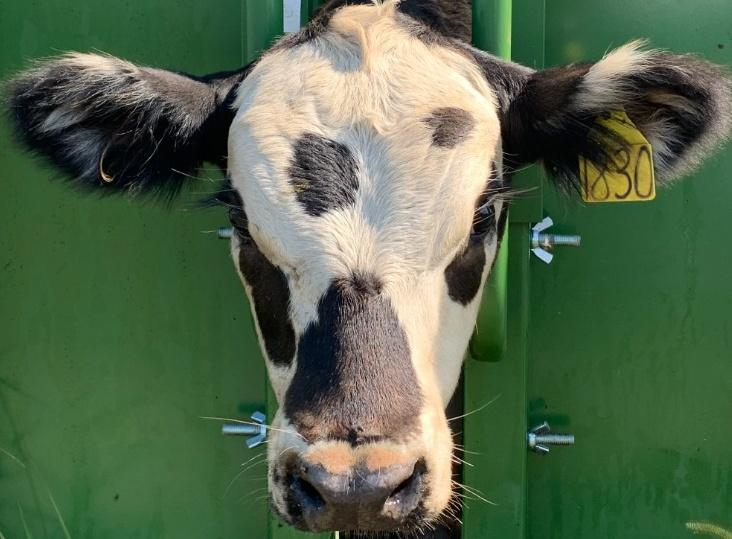muzzles: (249, 418, 466, 539)
